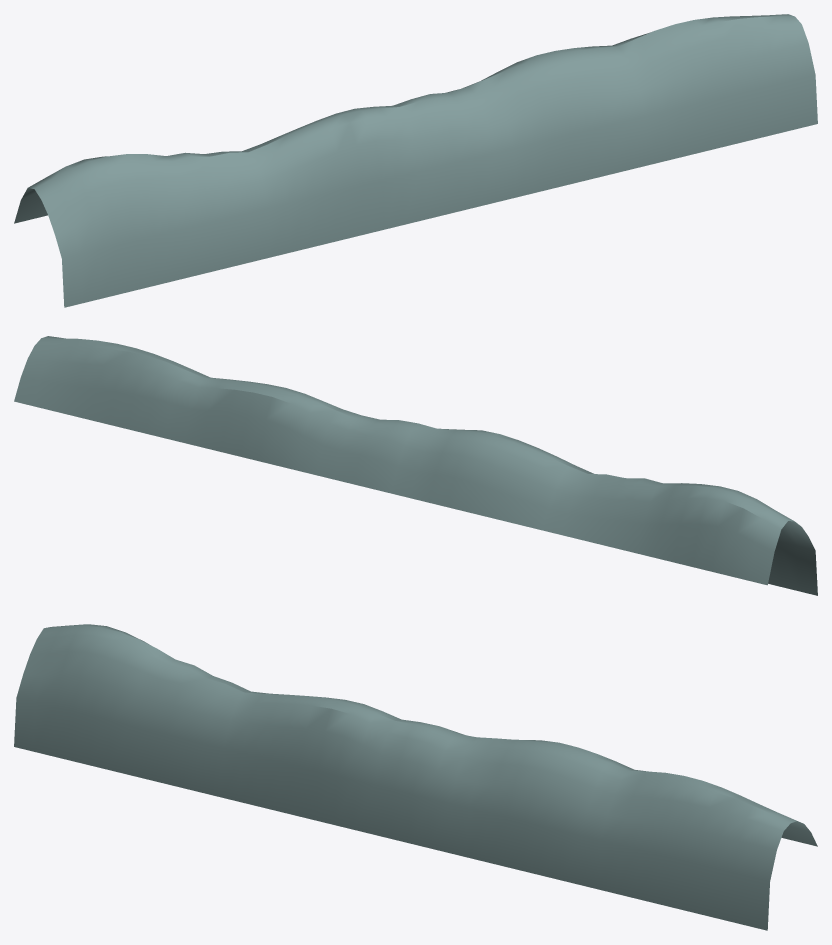
The model's file is range_grove_far.glb.
3 renders of one model, top to bottom at view 1: azimuth 30°, elevation 25°; view 2: azimuth 150°, elevation 25°; view 3: azimuth 330°, elevation 25°, orthographic.
Parts seen in each view (by area): view 1: land; view 2: land; view 3: land.
Part boxes in pixels (x1,y1,x2,y2): land: (14, 14, 817, 307); land: (14, 336, 817, 595); land: (14, 624, 817, 930).
Bounding box in the file's own units: 520 × 73.51 × 60.06.
